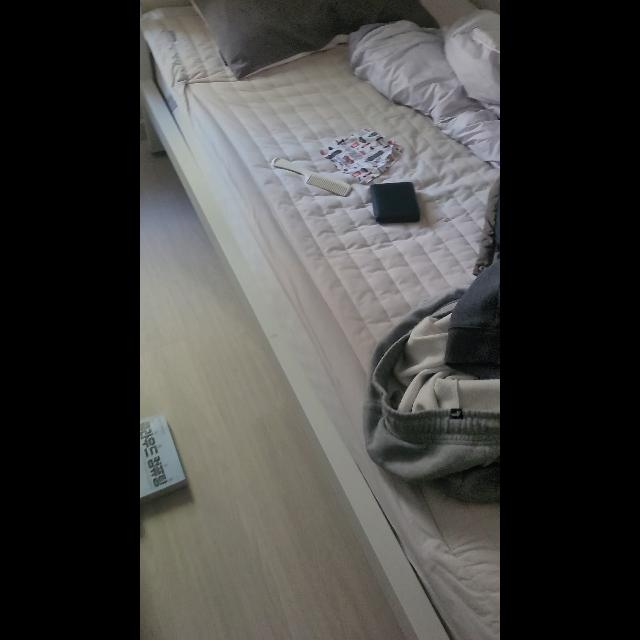COMB: (272, 156, 352, 196)
Glasses cleaning cloth: (319, 128, 405, 186)
WALLET: (370, 181, 420, 223)
